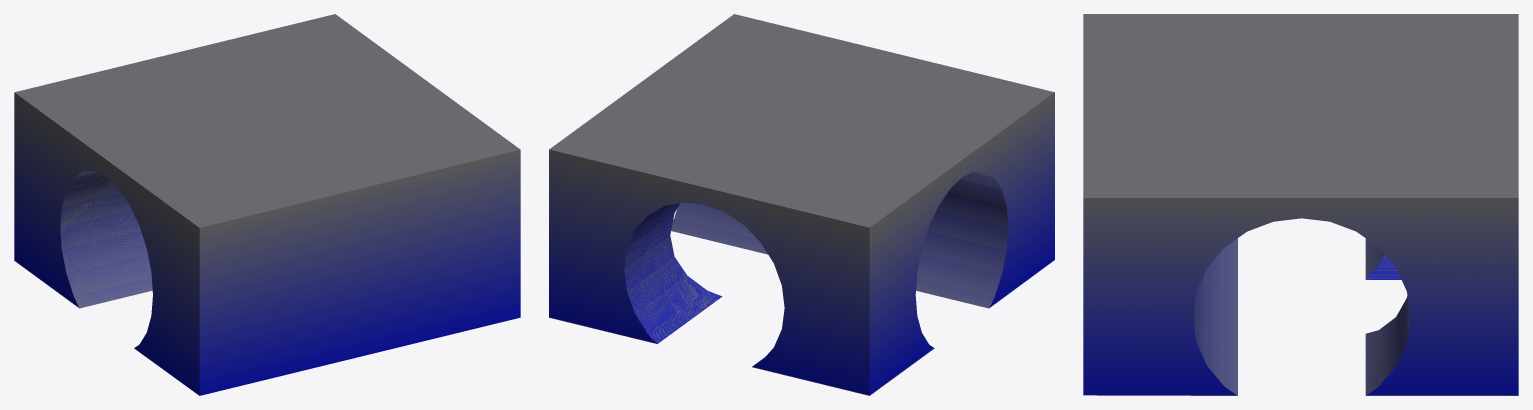
Rendered from TIntersection.dae.
3 renders of one model, left to right at view 1: azimuth 30°, elevation 25°; view 2: azimuth 150°, elevation 25°; view 3: azimuth 270°, elevation 25°, orthographic. The views are drawn at different scales.
Visible parts, largest first — view 1: SketchUp (×3); view 2: SketchUp (×3); view 3: SketchUp (×3).
Boxes of the visible parts, x1,y1,x2,y2 form: SketchUp (×3): (14,14,520,395); SketchUp (×3): (549,14,1054,395); SketchUp (×3): (1083,14,1518,395).
Size of the model in its own units: 787 by 787 by 395.
